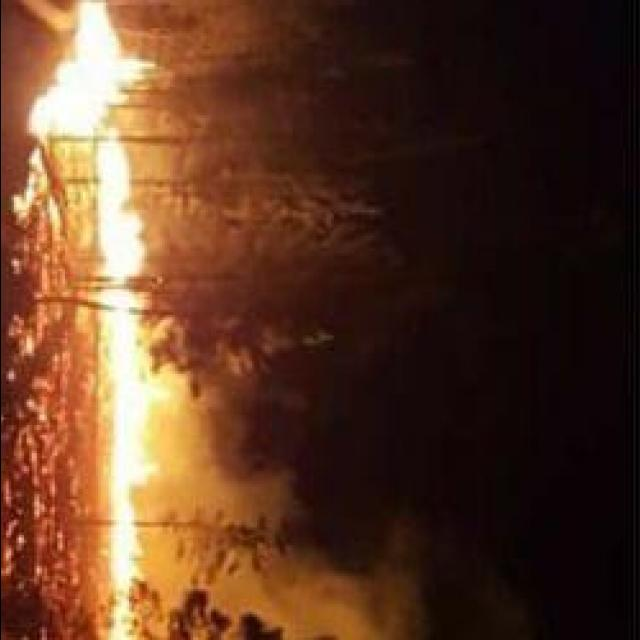fire: (27, 3, 155, 222), (110, 378, 148, 476), (108, 496, 144, 578), (98, 205, 138, 272), (110, 286, 136, 354)
smoke: (127, 0, 290, 231), (290, 564, 422, 640), (162, 402, 235, 506), (199, 464, 299, 514)
